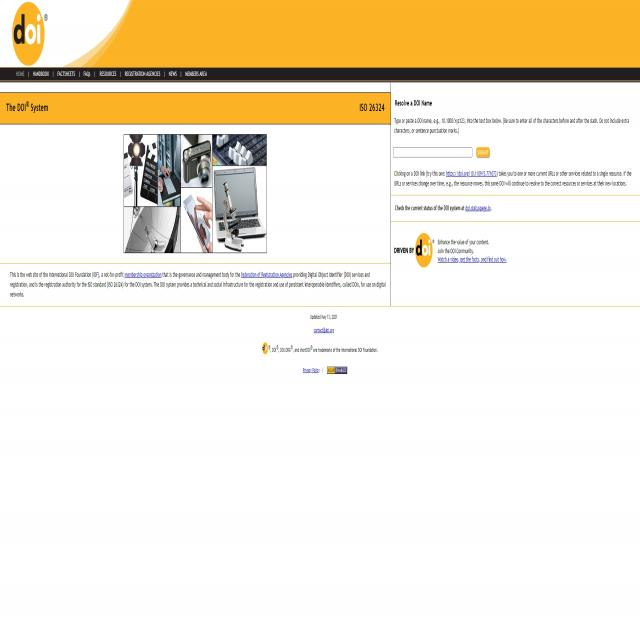tab-bar: (14, 67, 210, 82)
